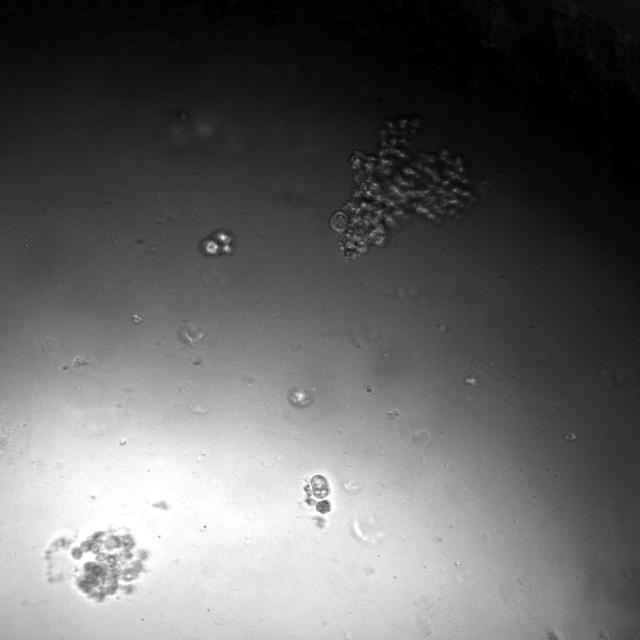organoid: (329, 115, 475, 260), (51, 529, 148, 601), (305, 474, 331, 515), (198, 229, 235, 257)
